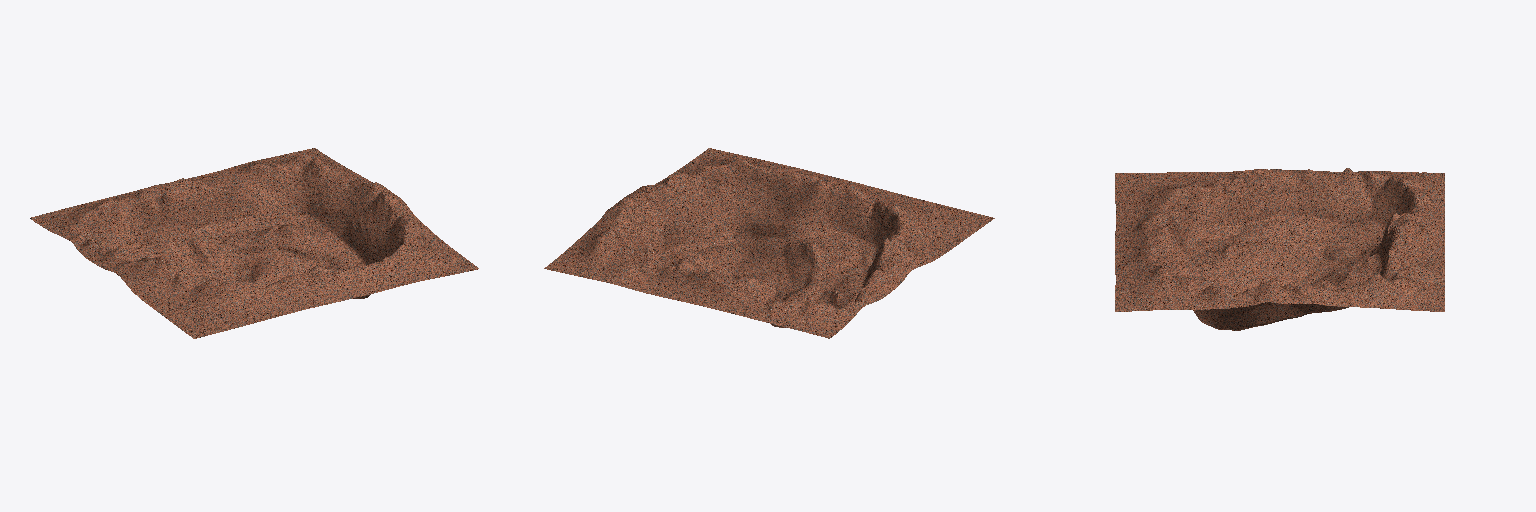
3 renders of one model, left to right at view 1: azimuth 30°, elevation 25°; view 2: azimuth 150°, elevation 25°; view 3: azimuth 270°, elevation 25°, orthographic.
Visible parts, largest first — view 1: Plane; view 2: Plane; view 3: Plane.
Boxes of the visible parts, <box> form: Plane: <box>30,148,478,338</box>; Plane: <box>544,148,994,338</box>; Plane: <box>1115,168,1444,330</box>.
Size of the model in its own units: 15.9 by 3.82 by 15.75.
1 materials, 1 textured.